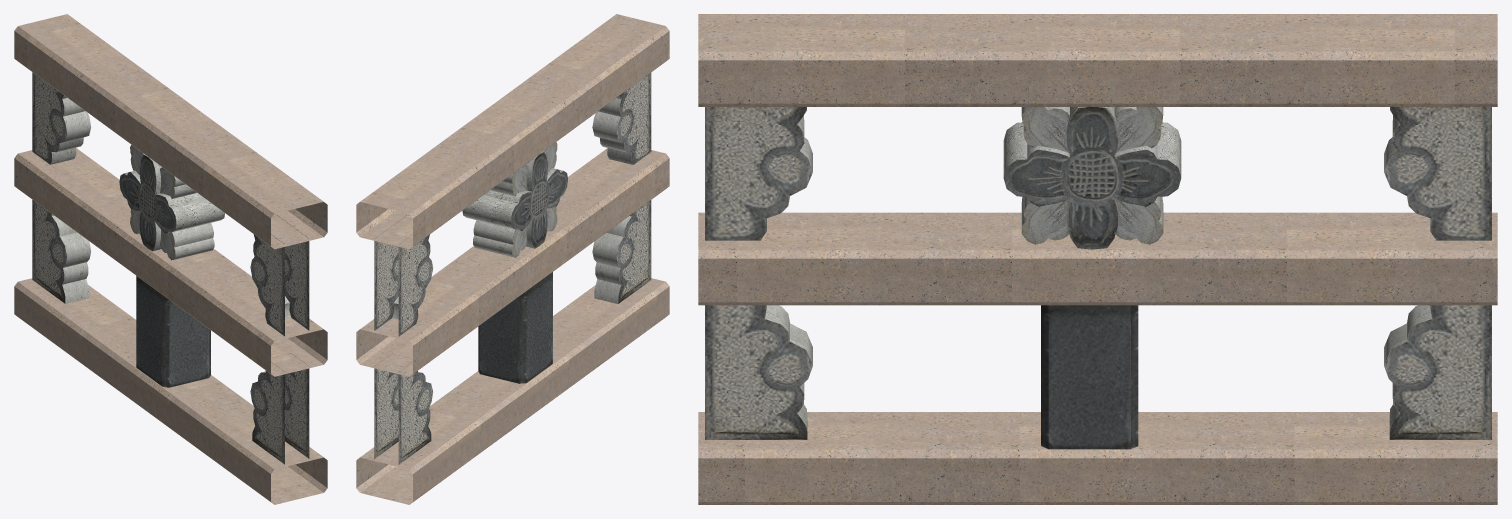
Rendered from Building_StoneFence02.FBX.
The picture shows the model from 3 angles, left to right: view 1: azimuth 30°, elevation 25°; view 2: azimuth 150°, elevation 25°; view 3: azimuth 270°, elevation 25°; orthographic projection. The views are drawn at different scales.
Visible parts, largest first — view 1: Object001; view 2: Object001; view 3: Object001.
Part boxes in pixels (box(x1,y1,x2,y2)): Object001: box(14, 14, 327, 504); Object001: box(356, 14, 669, 504); Object001: box(698, 14, 1497, 504).
Bounding box in the file's own units: 15.94 × 78.12 × 125.
